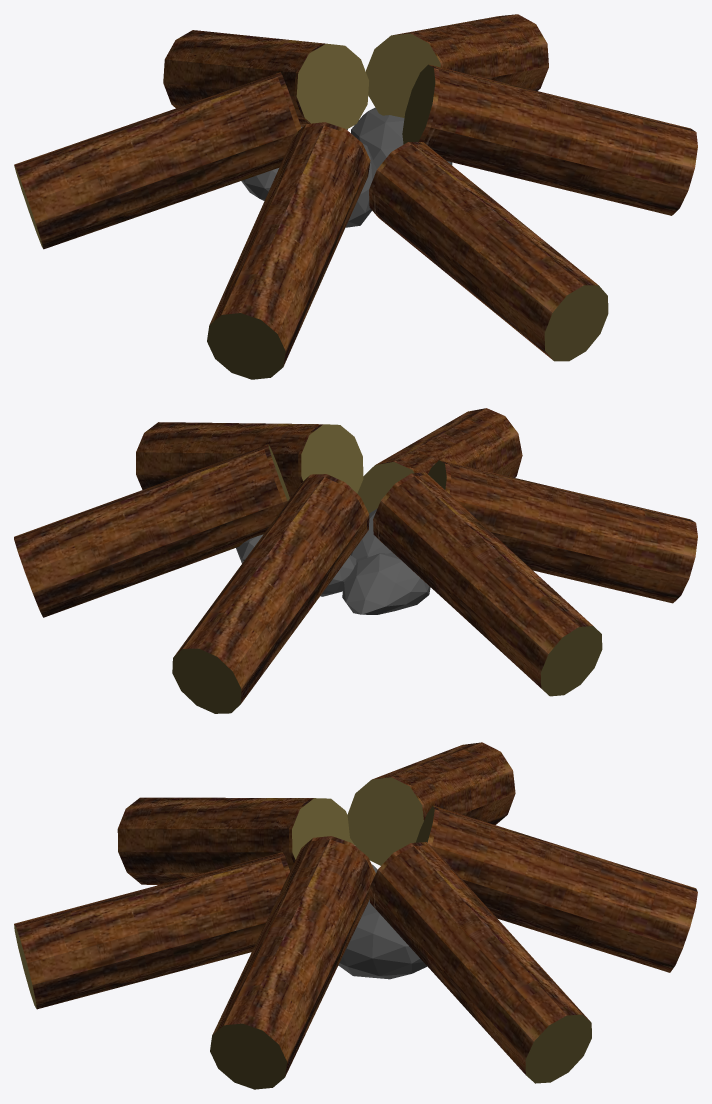
Rendered from campfire (1).fbx.
3 renders of one model, top to bottom at view 1: azimuth 30°, elevation 25°; view 2: azimuth 150°, elevation 25°; view 3: azimuth 270°, elevation 25°, orthographic. The views are drawn at different scales.
Visible parts, largest first — view 1: campfire; view 2: campfire; view 3: campfire.
Part boxes in pixels (x1=…): campfire: x1=14, y1=14, x2=697, y2=379; campfire: x1=14, y1=408, x2=697, y2=713; campfire: x1=14, y1=742, x2=697, y2=1089.
Size of the model in its own units: 226 by 69.36 by 238.
